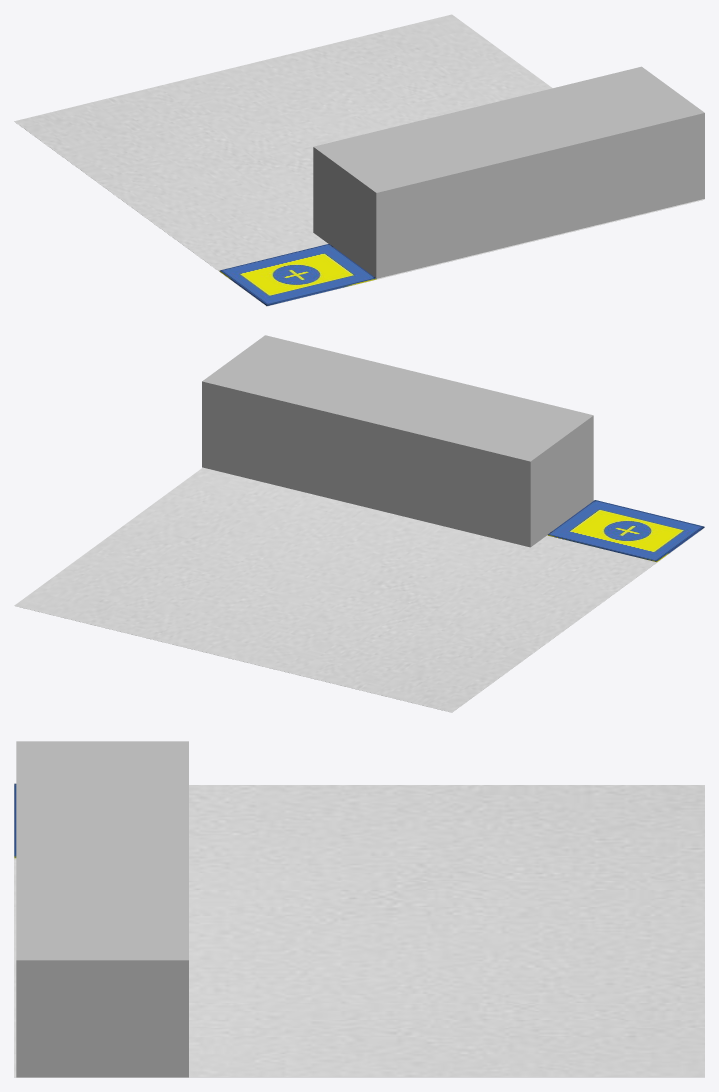
The model's file is Robocup1.dae.
3 views of the same model, one above another, from view 1: azimuth 30°, elevation 25°; view 2: azimuth 150°, elevation 25°; view 3: azimuth 270°, elevation 25° (orthographic). The views are drawn at different scales.
Parts seen in each view (by area): view 1: Plano.001, Cube.002, Cube; view 2: Plano.001, Cube.002, Cube; view 3: Plano.001, Cube.002.
Boxes of the visible parts, x1,y1,x2,y2 form: Plano.001: (14, 14, 704, 306); Cube.002: (313, 66, 704, 278); Cube: (219, 244, 376, 305); Plano.001: (14, 467, 703, 712); Cube.002: (202, 335, 593, 547); Cube: (547, 500, 704, 562); Plano.001: (14, 785, 704, 1077); Cube.002: (16, 741, 188, 1077).
Size of the model in its own units: 8.02 by 8 by 1.5.
